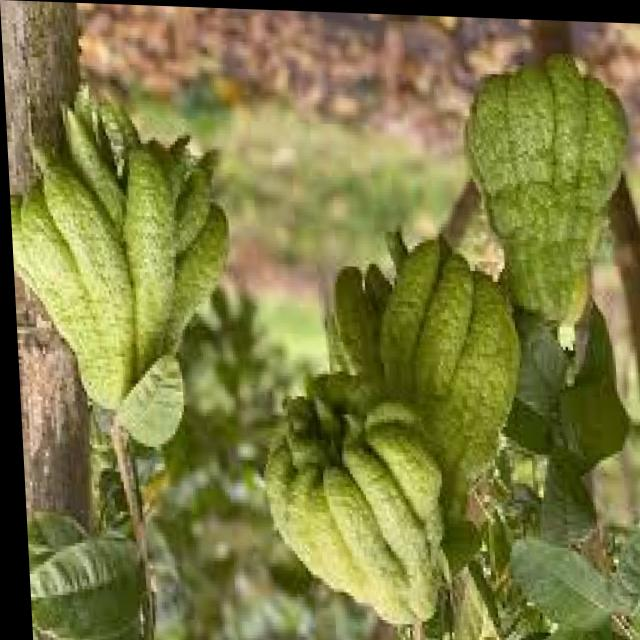PhatThu: (8, 89, 237, 433), (317, 223, 509, 533), (254, 365, 446, 627), (455, 55, 633, 327)
